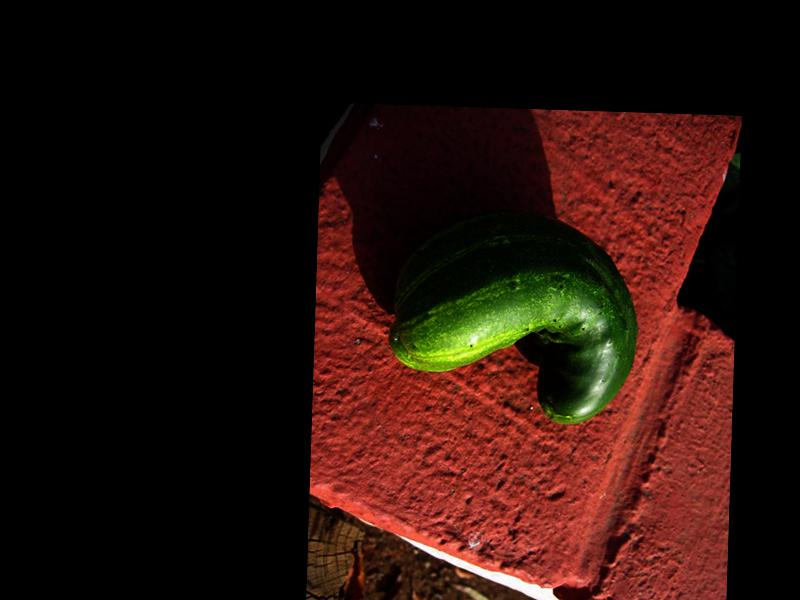Cucumber: (387, 209, 640, 428)
